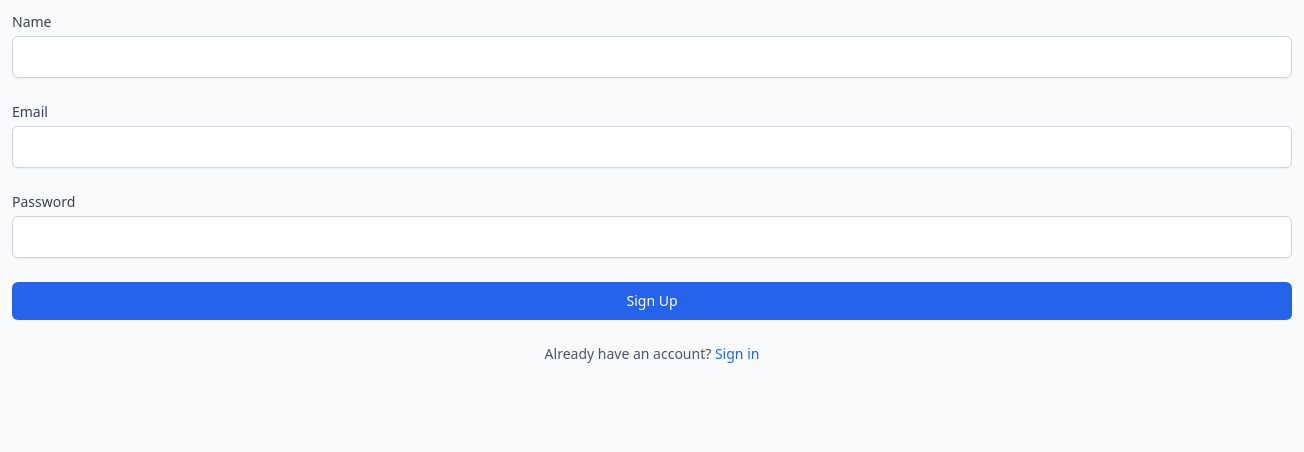
SignupForm › should show error for short password
This screenshot has width=1304, height=452.
Type "short" into the password field labelled "Password" at [652, 237], box x1=12 y1=216 x2=1292 y2=258
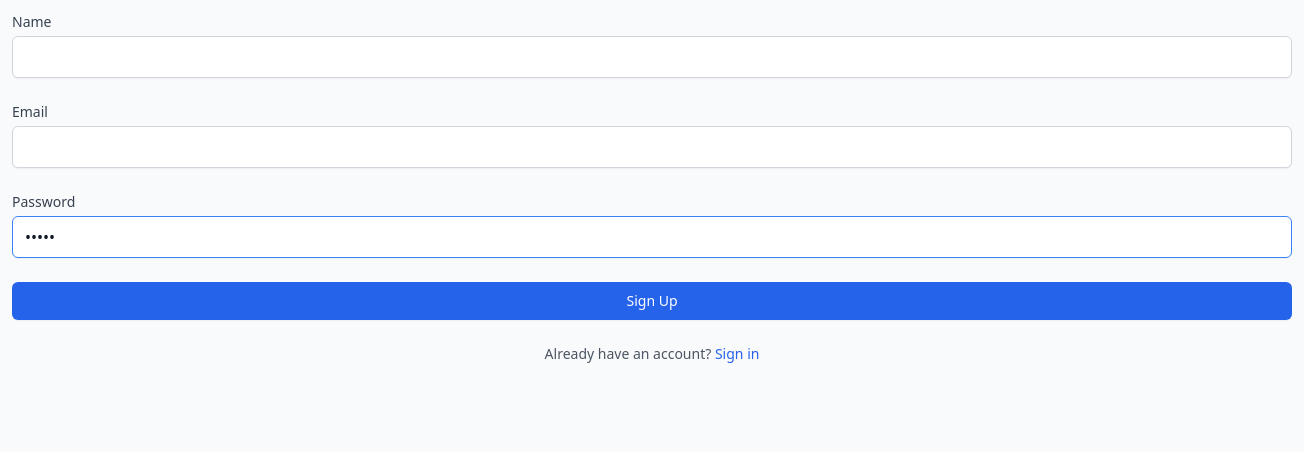
Click the button "Sign Up" at [652, 301], box x1=12 y1=282 x2=1292 y2=320
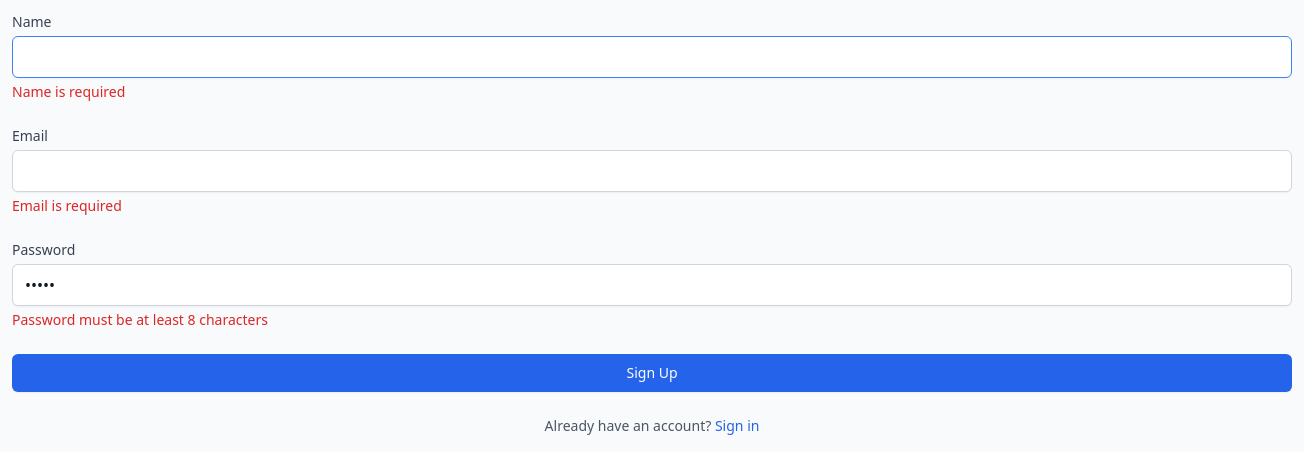
Result: the text "Password must be at least 8 characters" is shown at x1=12 y1=310 x2=268 y2=329
